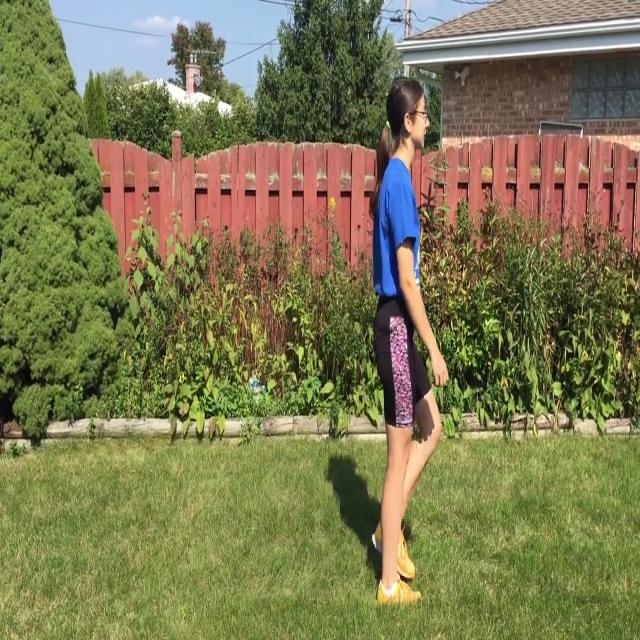normal: (358, 74, 456, 618)
